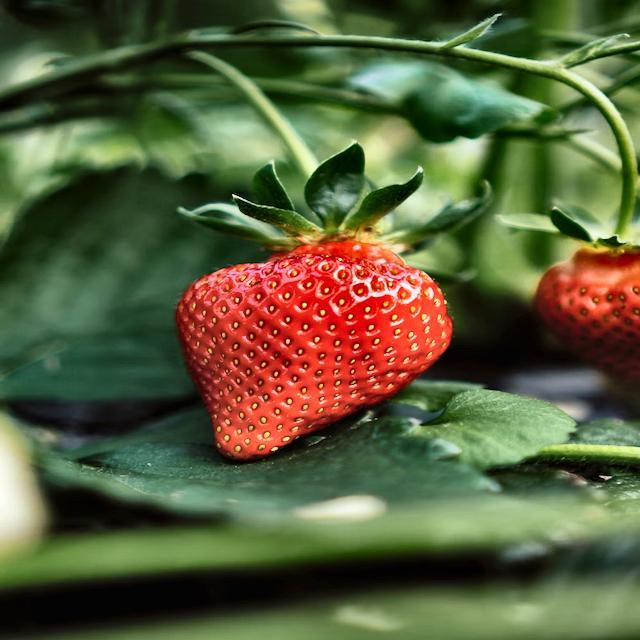strawberry: (176, 239, 452, 459), (535, 246, 640, 381)
